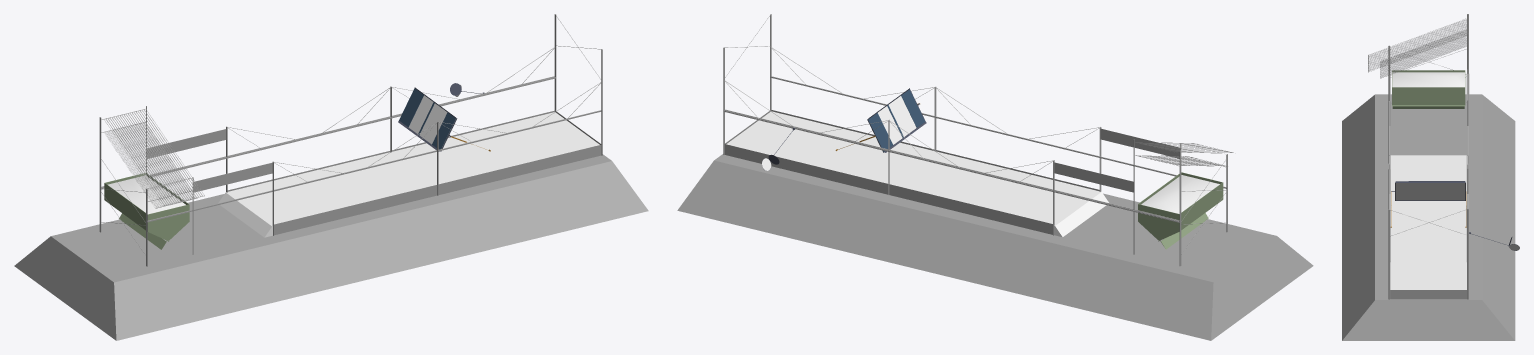
The model's file is Melt_In_Place_Station.glb.
3 renders of one model, left to right at view 1: azimuth 30°, elevation 25°; view 2: azimuth 150°, elevation 25°; view 3: azimuth 270°, elevation 25°, orthographic. The views are drawn at different scales.
Visible parts, largest first — view 1: MIP_structure_LOD0, Regolith_Bed_LOD0, MIP-screen-bottom_LOD0, MIP-screen-top_LOD0, MIP-hopper_LOD0, MIP-hopper-powder_A, MIP_square_lens_LOD0; view 2: MIP_structure_LOD0, Regolith_Bed_LOD0, MIP-hopper_LOD0, MIP-hopper-powder_A, MIP_square_lens_LOD0, MIP-screen-top_LOD0, MIP-screen-bottom_LOD0; view 3: MIP_structure_LOD0, Regolith_Bed_LOD0, MIP-hopper_LOD0, MIP-screen-top_LOD0, MIP-screen-bottom_LOD0, MIP_square_lens_LOD0, MIP-hopper-powder_A.
Boxes of the visible parts, x1,y1,x2,y2 form: MIP_structure_LOD0: (14, 14, 648, 340); Regolith_Bed_LOD0: (218, 112, 599, 237); MIP-screen-bottom_LOD0: (101, 122, 197, 208); MIP-screen-top_LOD0: (101, 109, 204, 206); MIP-hopper_LOD0: (104, 173, 189, 249); MIP-hopper-powder_A: (108, 175, 185, 214); MIP_square_lens_LOD0: (398, 87, 457, 151); MIP_structure_LOD0: (677, 14, 1313, 340); Regolith_Bed_LOD0: (726, 111, 1108, 237); MIP-hopper_LOD0: (1138, 172, 1223, 249); MIP-hopper-powder_A: (1141, 175, 1219, 213); MIP_square_lens_LOD0: (867, 88, 926, 152); MIP-screen-top_LOD0: (1135, 142, 1233, 153); MIP-screen-bottom_LOD0: (1135, 155, 1225, 167); MIP_structure_LOD0: (1342, 14, 1515, 340); Regolith_Bed_LOD0: (1389, 155, 1467, 289); MIP-hopper_LOD0: (1392, 70, 1465, 108); MIP-screen-top_LOD0: (1368, 17, 1468, 72); MIP-screen-bottom_LOD0: (1380, 29, 1467, 78); MIP_square_lens_LOD0: (1391, 181, 1465, 200); MIP-hopper-powder_A: (1392, 72, 1464, 87).
Size of what is drawn, in the model's own units: 97.18 by 27.01 by 33.23.
